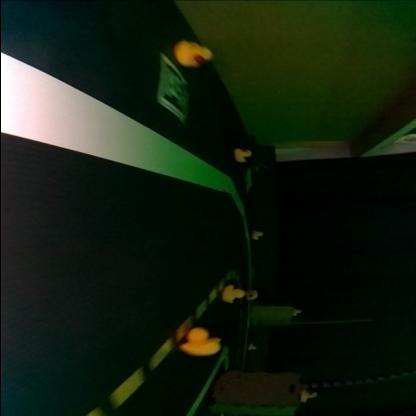Duckie: (179, 328, 221, 356), (176, 42, 212, 68), (224, 286, 242, 304), (302, 390, 316, 403), (235, 150, 249, 162), (253, 231, 263, 240), (249, 291, 257, 301), (292, 310, 300, 316), (248, 344, 256, 350)
QR code: (160, 56, 186, 120)
